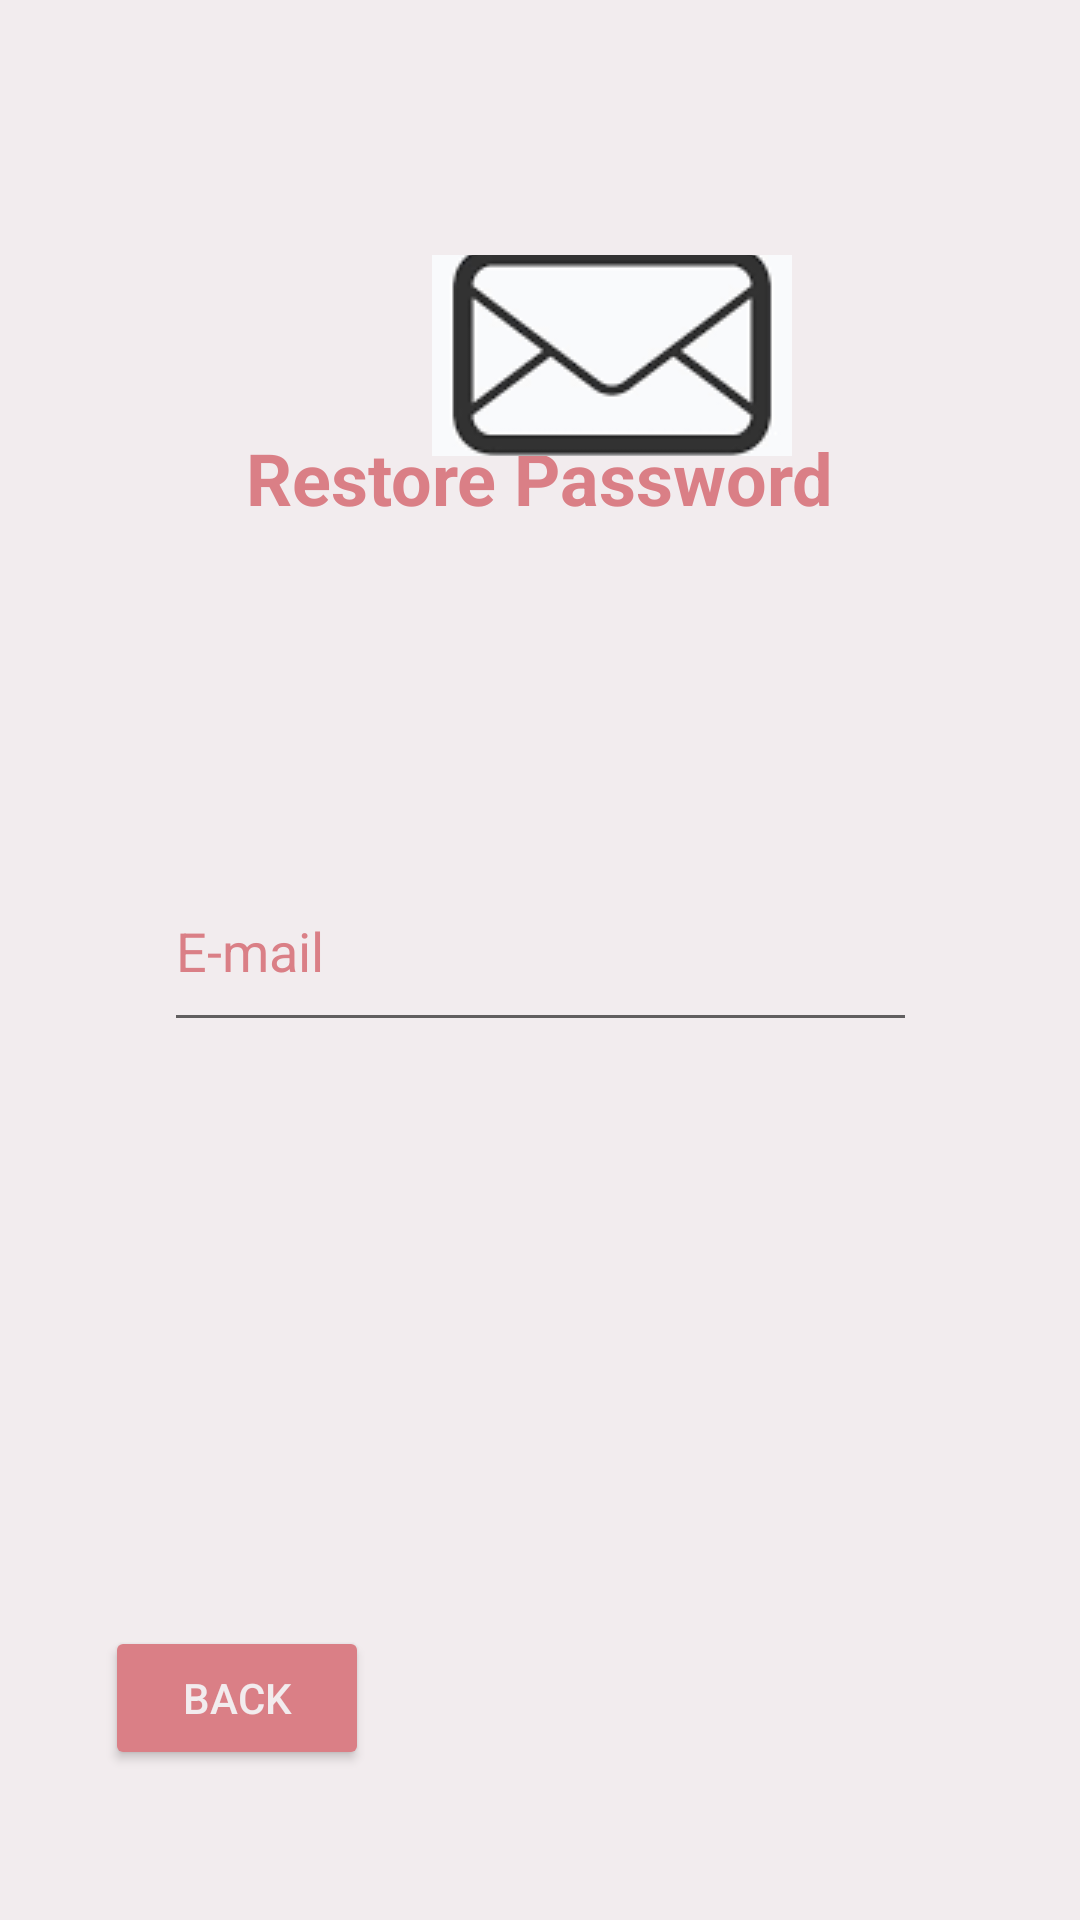

Named icons in this screenshot (1080 × 1920) and their bounding boxes, (x1, y1, x2, y2):
email: (432, 255, 792, 456)
